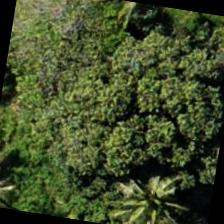Kelapa_Sawit: (102, 149, 204, 223)
